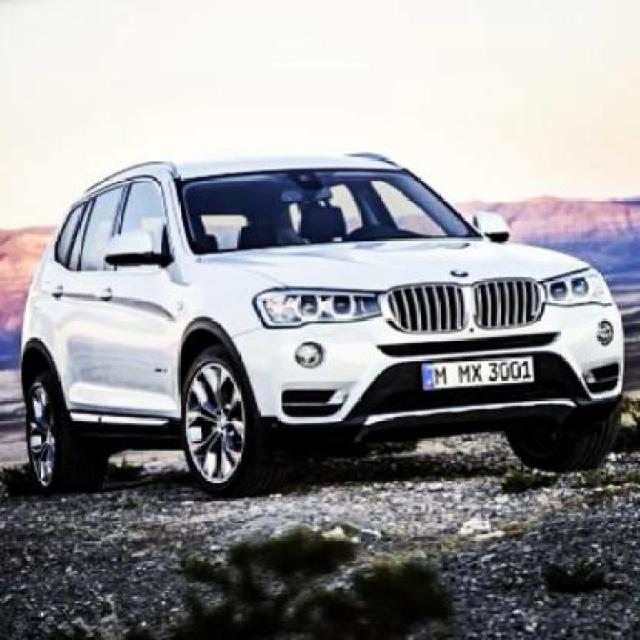License-Plates: (417, 354, 536, 394)
